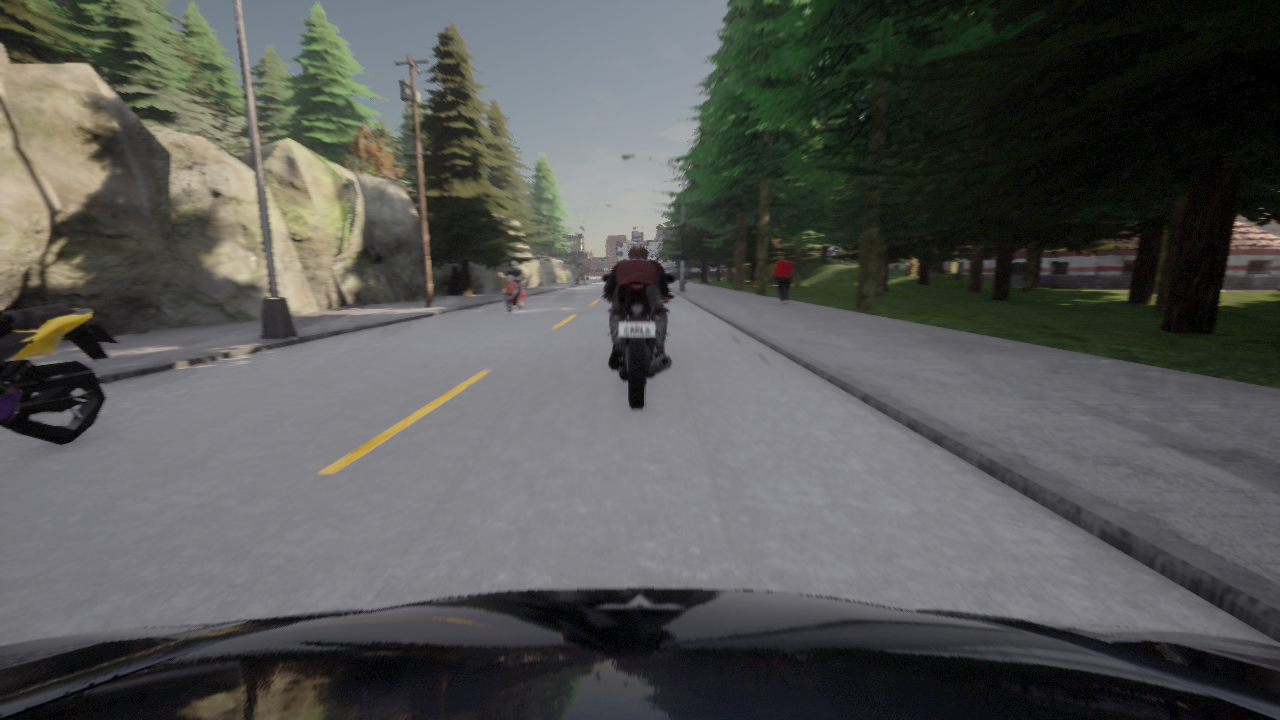cyclist: (0, 588, 1279, 719), (0, 302, 120, 445), (601, 274, 675, 408), (498, 272, 525, 312), (665, 272, 669, 273)
pedestrian: (773, 253, 793, 304), (683, 266, 688, 283)
